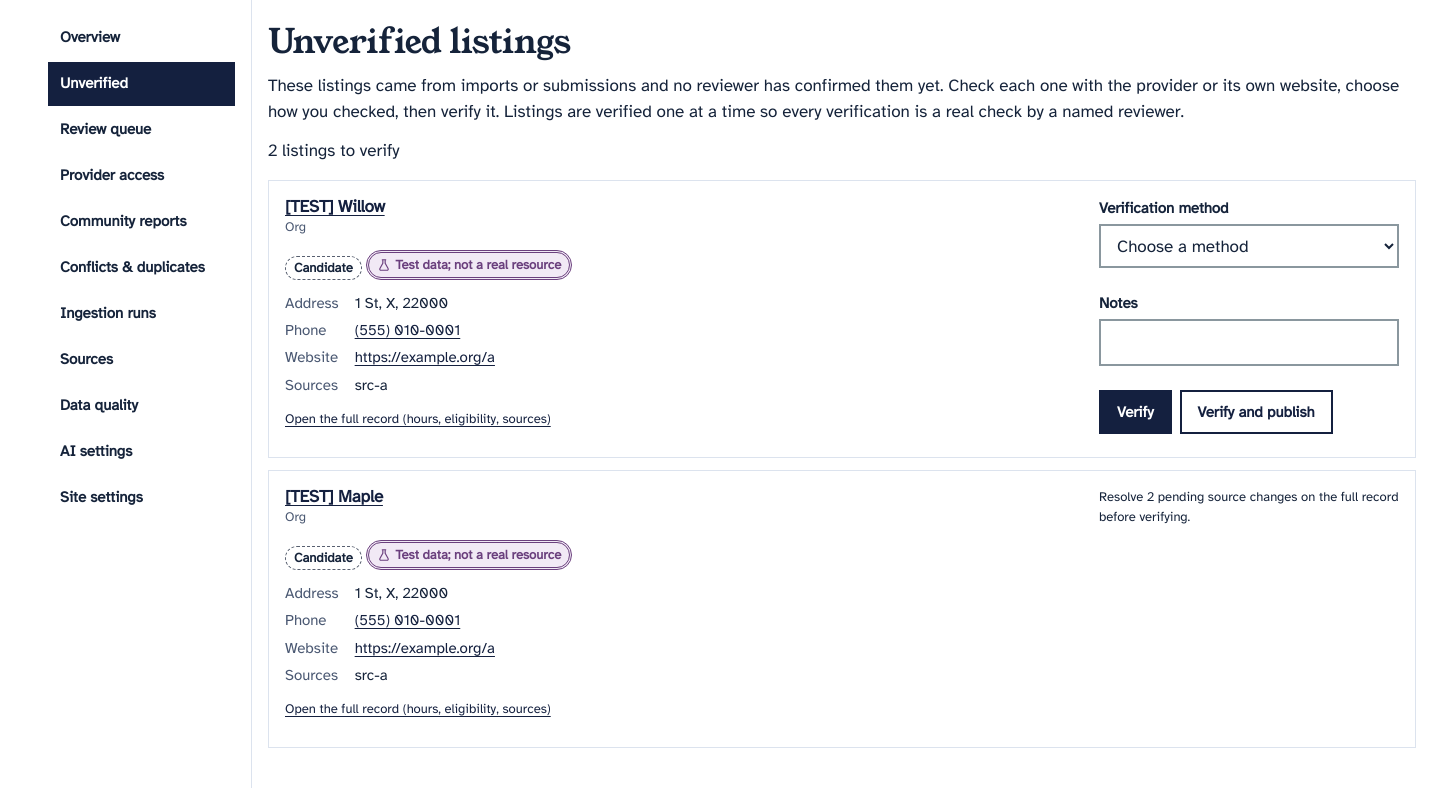
Scenario: admin › unverified: each listing is verified on its own, with a method, and then leaves the list
Expected: the text "2 listings to verify" is shown, 268,140 -> 400,161
Expected: the text "Resolve 2 pending source changes" is shown, 1099,489 -> 1398,525
Click the button "Verify" at (1135, 412), box 1099,390 -> 1172,434
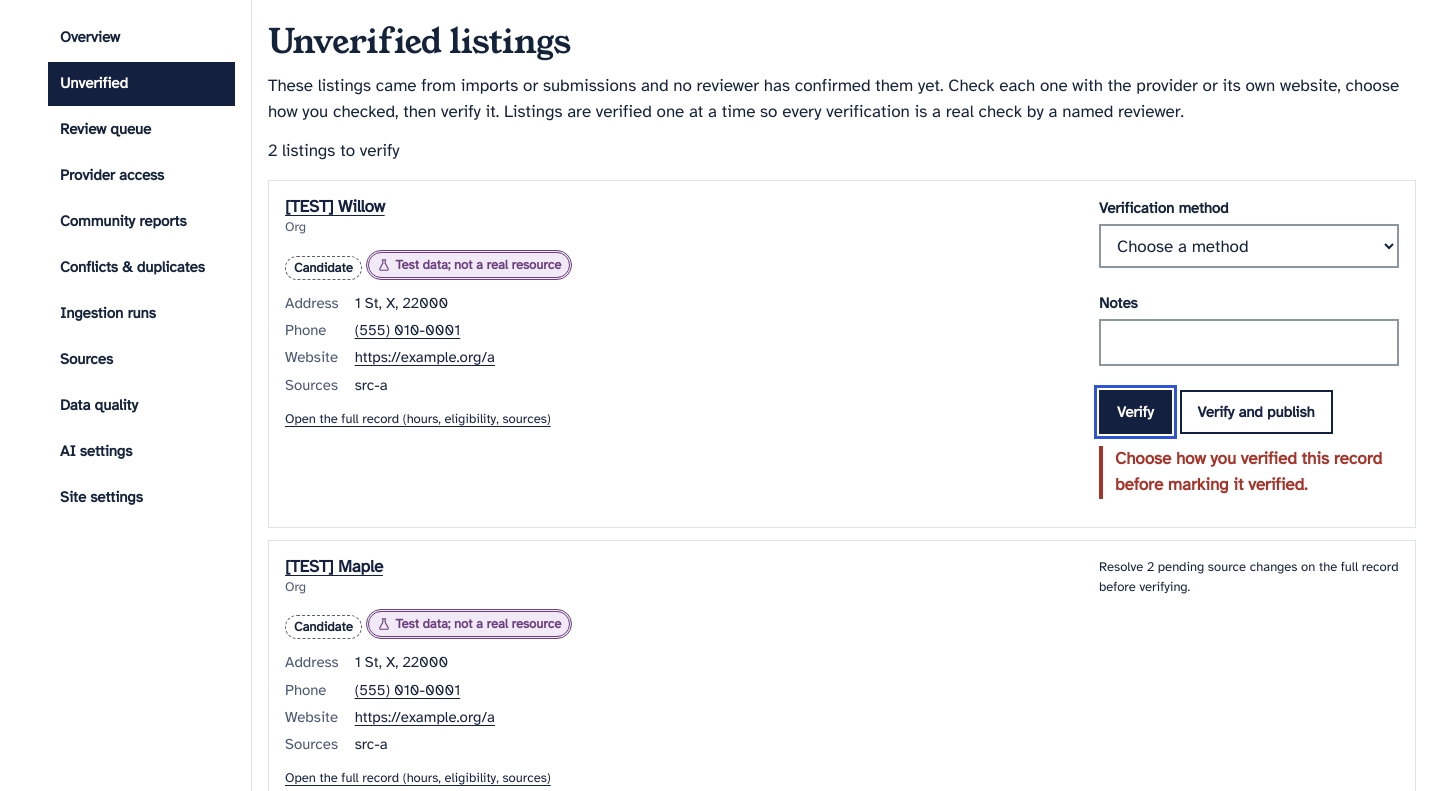
Expected: the message shows "Choose how you verified", 1115,448 -> 1382,495
Select "Phone call" in the dropdown labelled "Verification method" at (1249, 246), box 1099,224 -> 1399,268
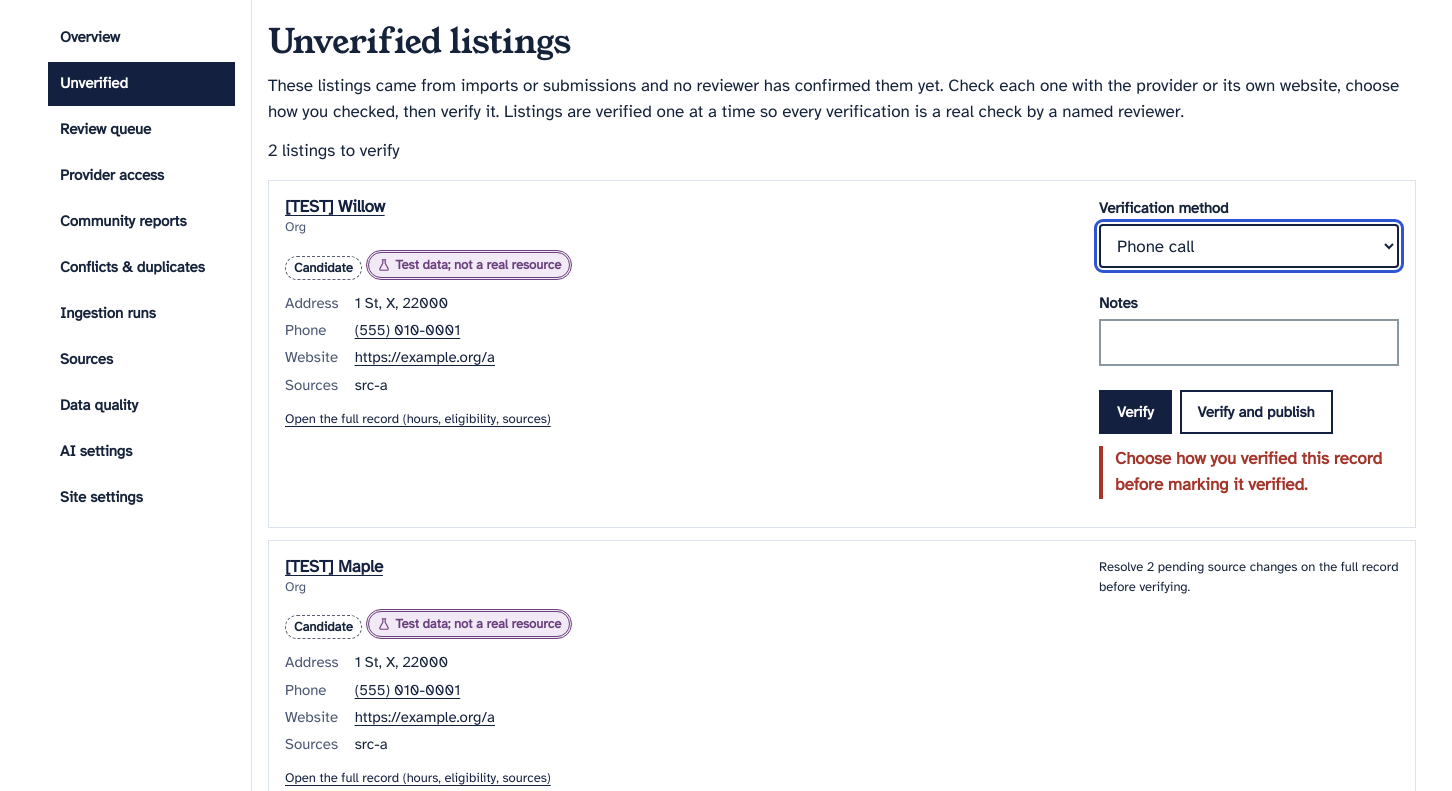
Click the button "Verify" at (1135, 412), box 1099,390 -> 1172,434
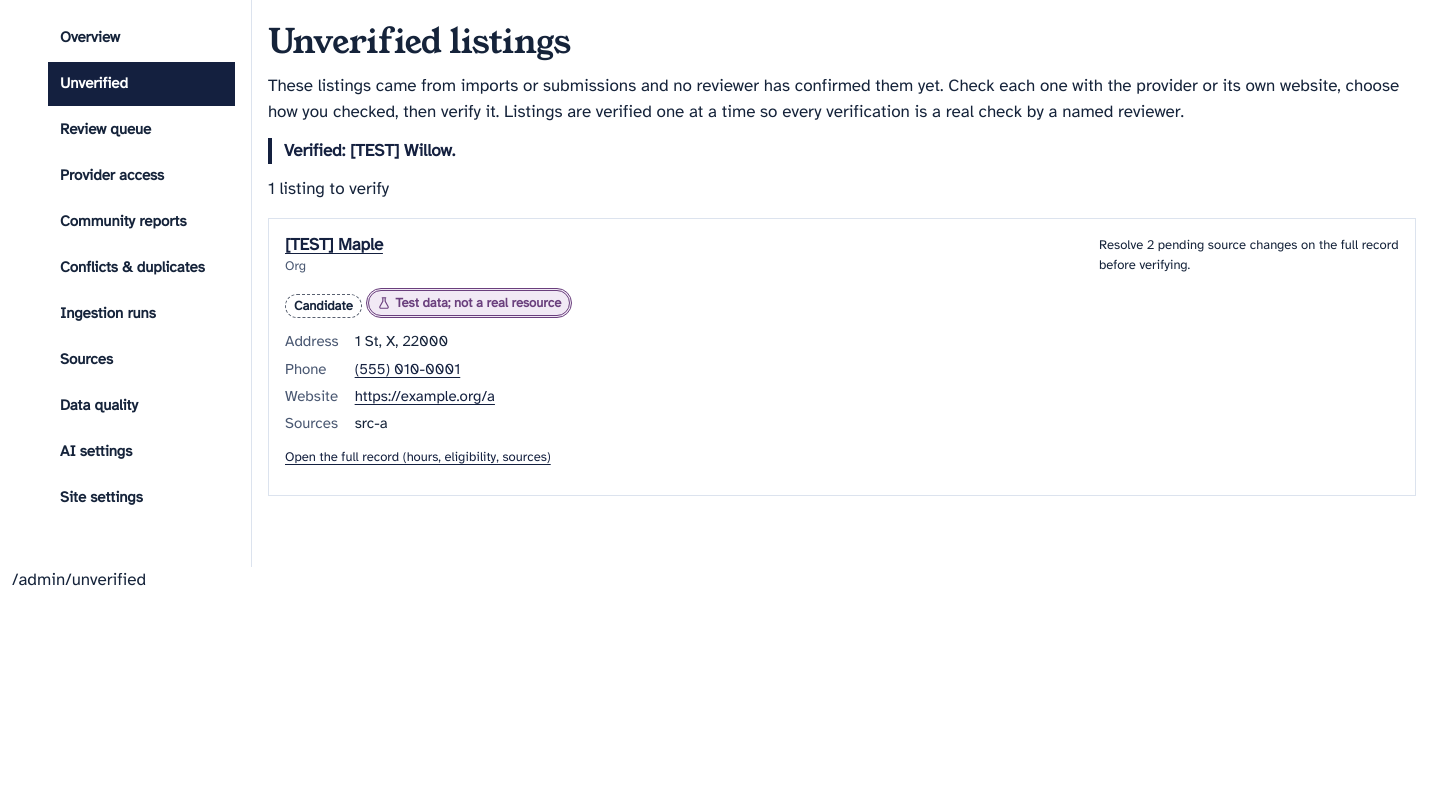
Expected: the text "Verified: [TEST] Willow." is shown, 268,138 -> 1416,164
Expected: the text "1 listing to verify" is shown, 268,178 -> 389,199
